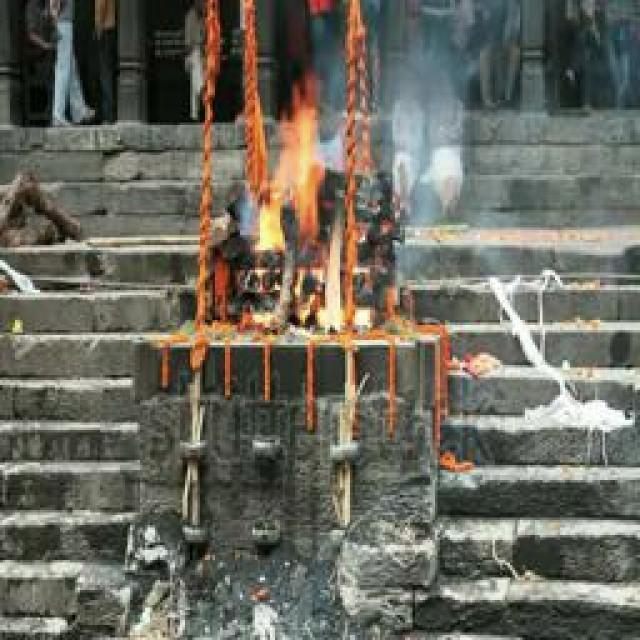Fire: (252, 80, 356, 332)
